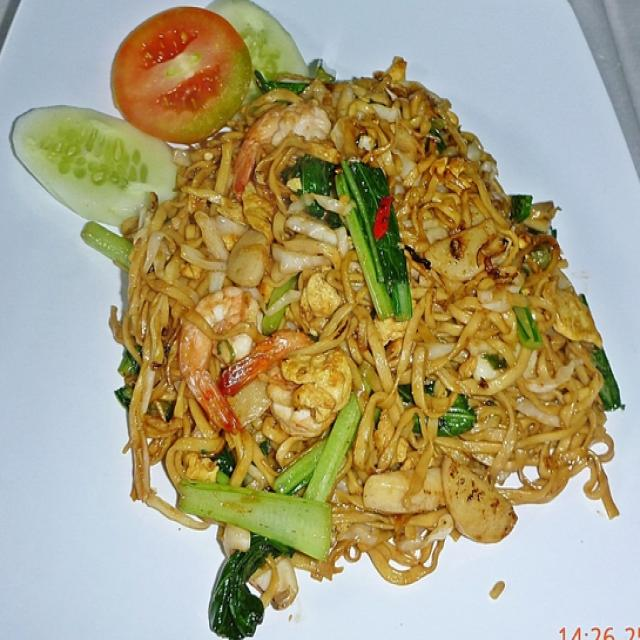面条主食: (53, 18, 609, 608)
